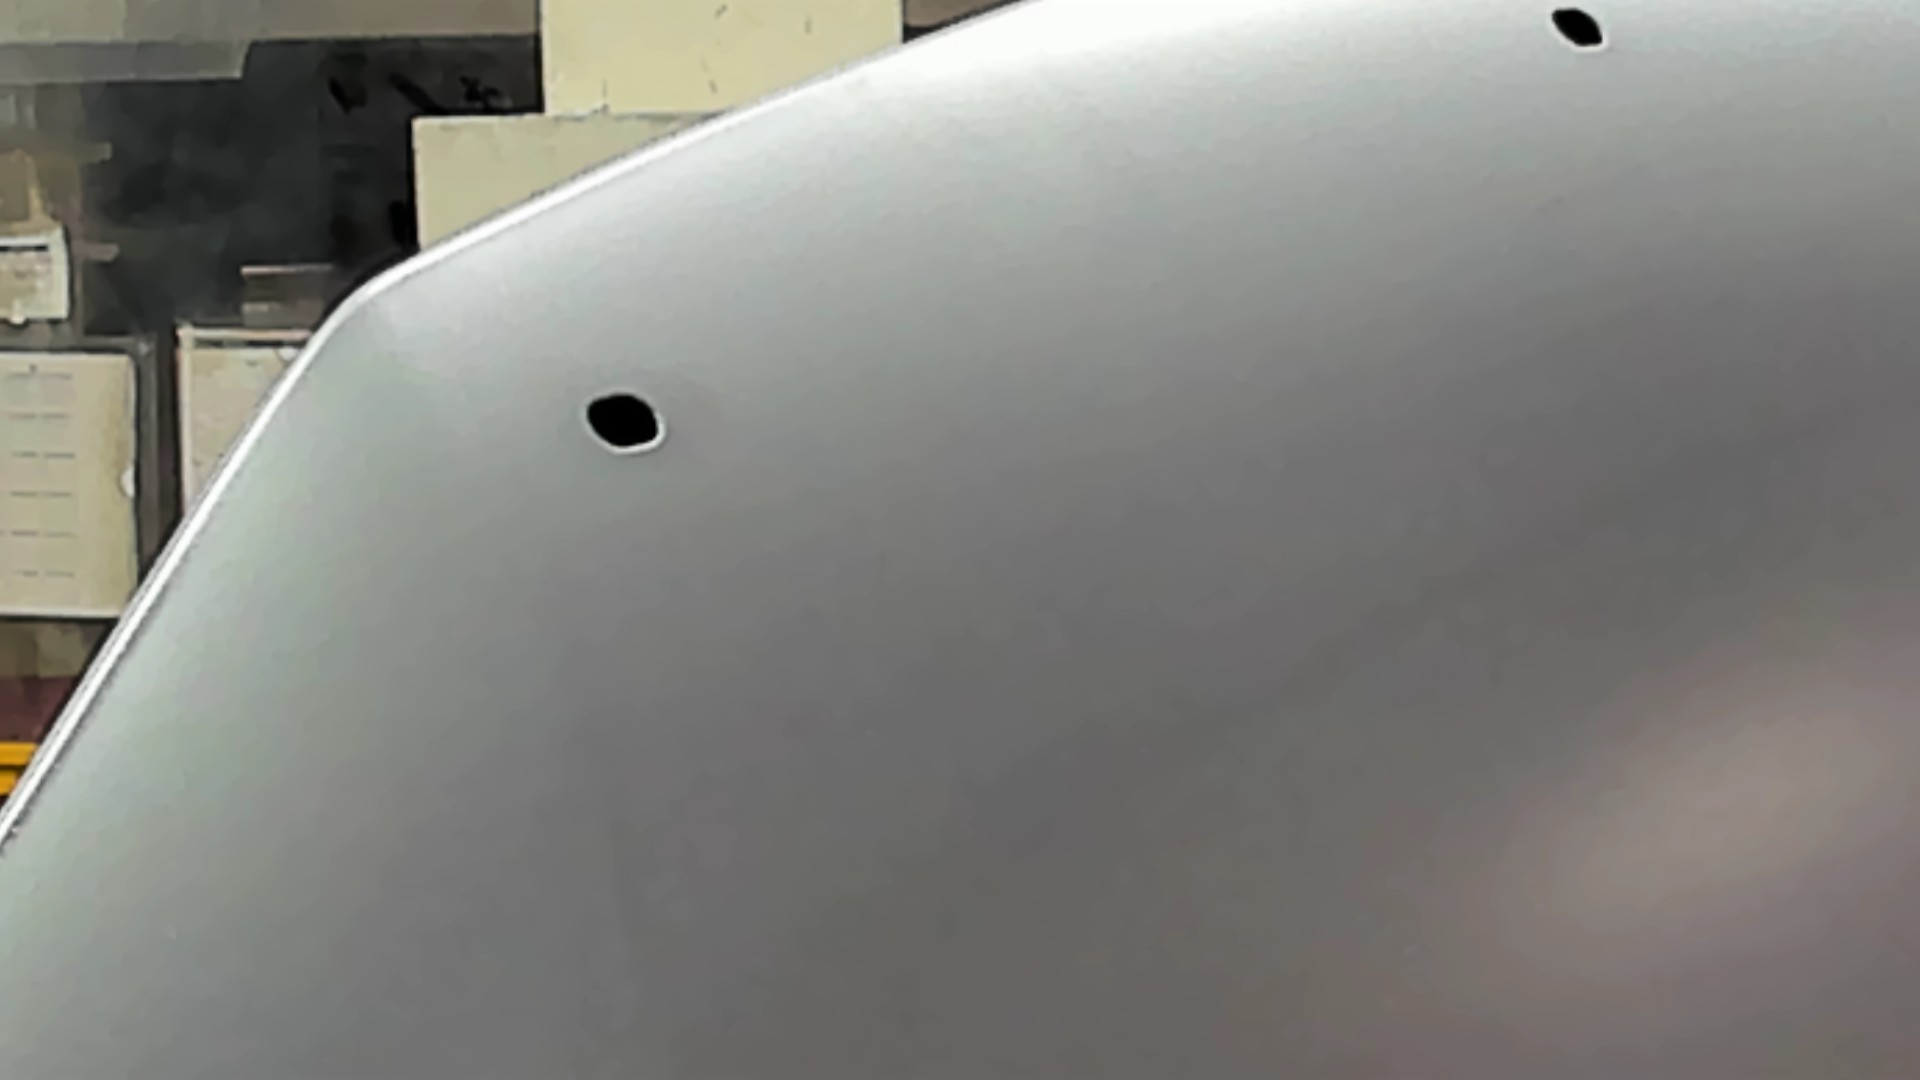amorfo: (579, 378, 670, 458), (1543, 1, 1613, 74)
capo: (803, 162, 1920, 1080)
